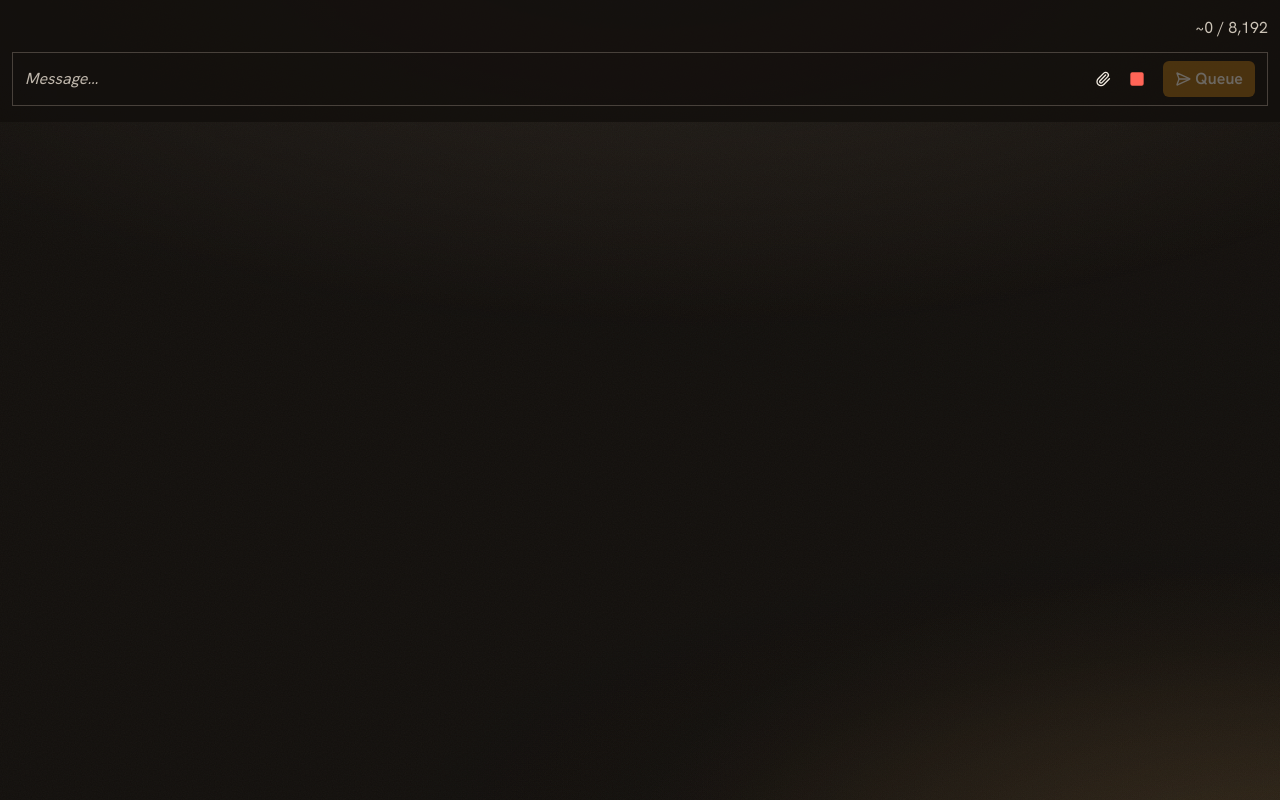
Test: Composer message queue (streaming submit) › removes a queued message without sending it
Step 1. Type "will be removed" into the text box labelled "Message" → (556, 79), box [25, 59, 1087, 99]
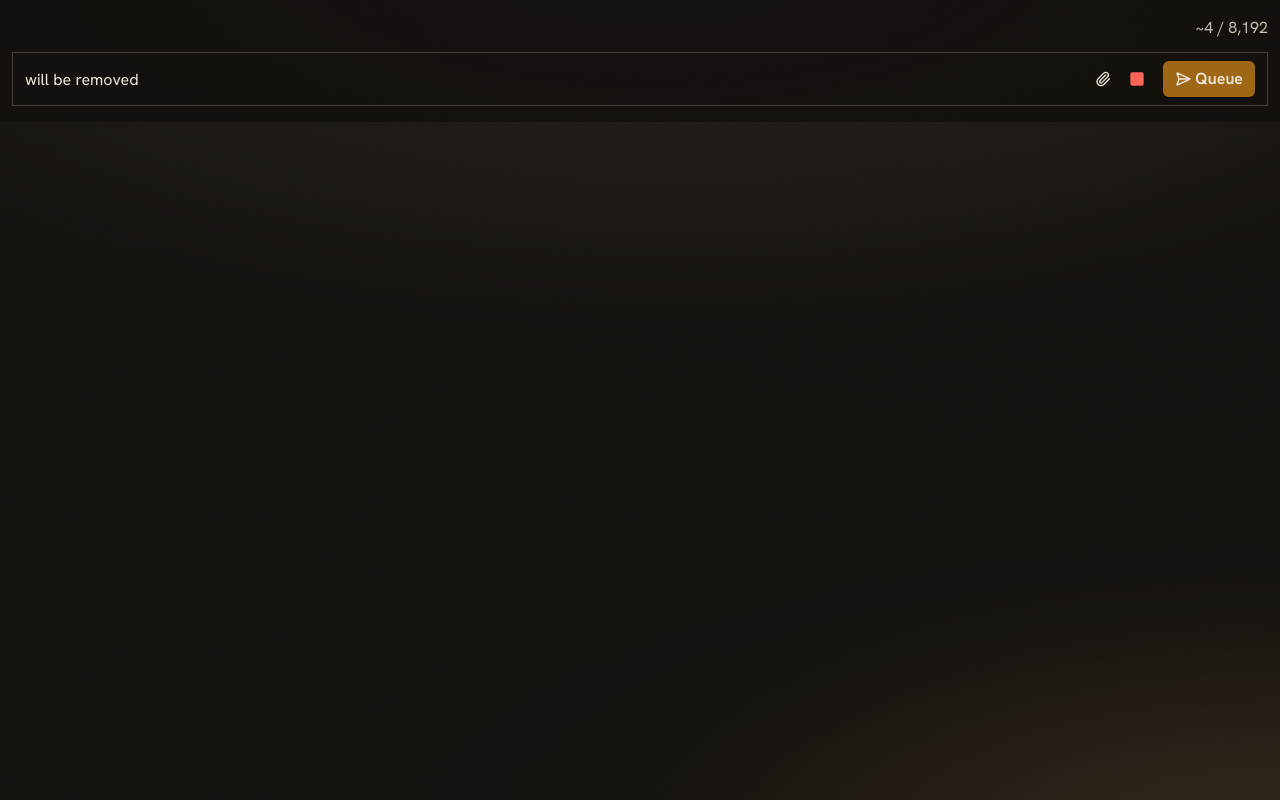
Step 2. Press Enter in the text box named "Message", box [25, 60, 1087, 98]
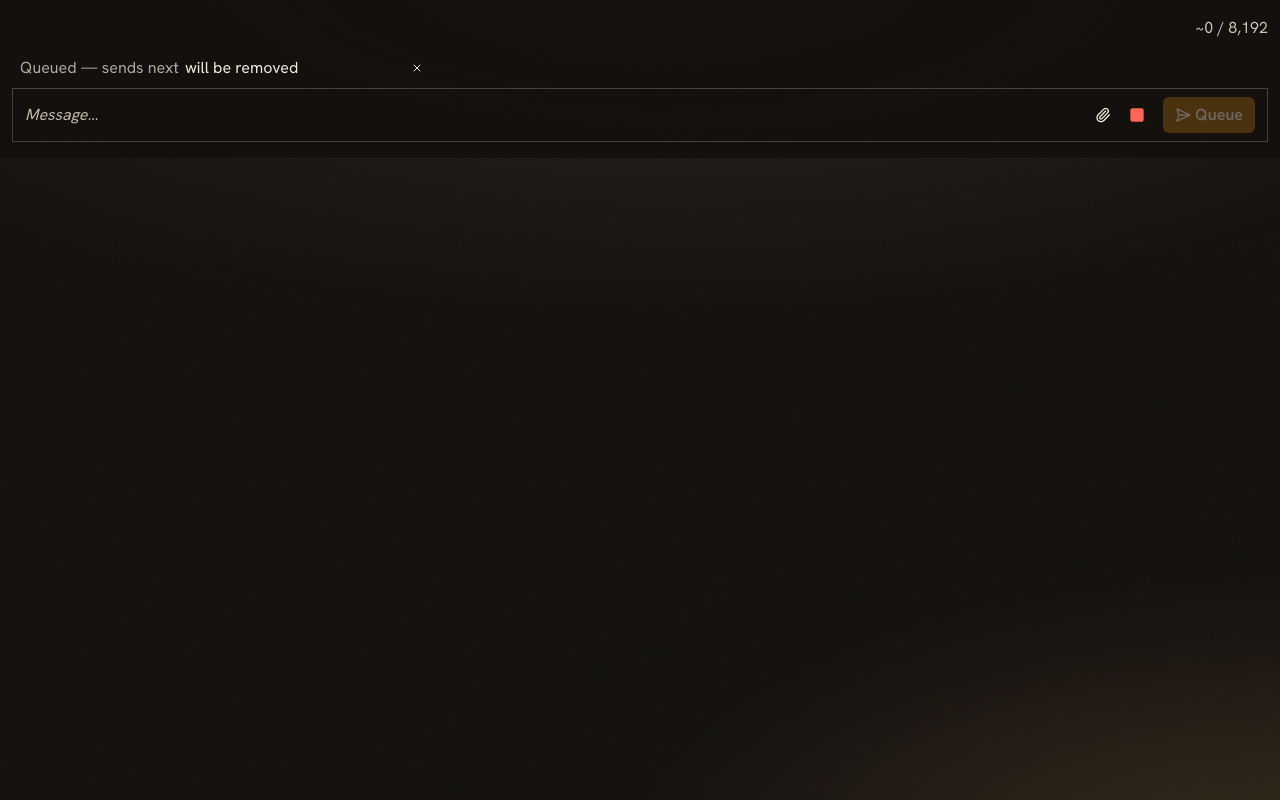
Check: the list item with test id "composer-queue-item" is shown, box [20, 57, 423, 78]
Step 3. Click the button with test id "composer-queue-remove" → (417, 68), box [411, 62, 423, 74]
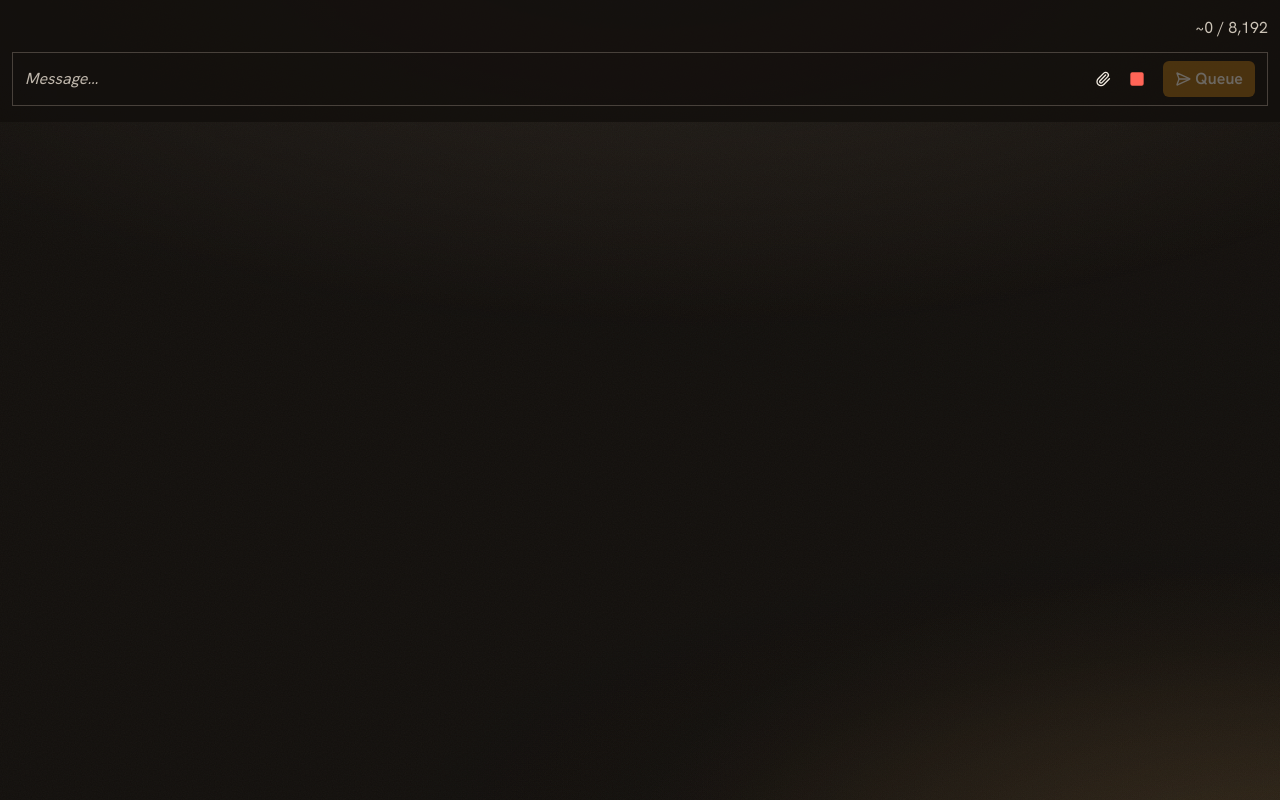
Check: the list with test id "composer-queue" is gone
